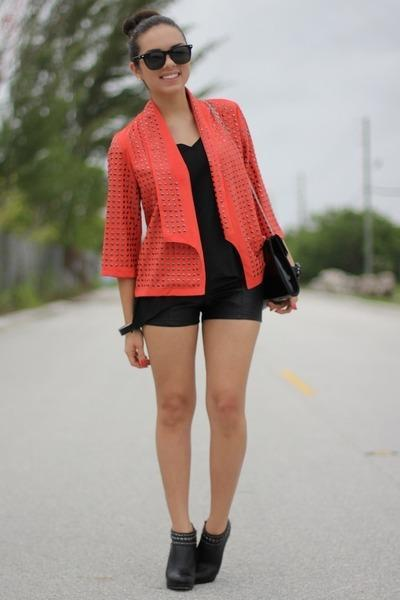bag: (260, 234, 297, 298)
jacket: (101, 89, 286, 296)
shirt: (180, 137, 243, 275)
shoe: (166, 525, 227, 591)
shorts: (133, 270, 275, 326)
sunglass: (132, 43, 192, 69)
